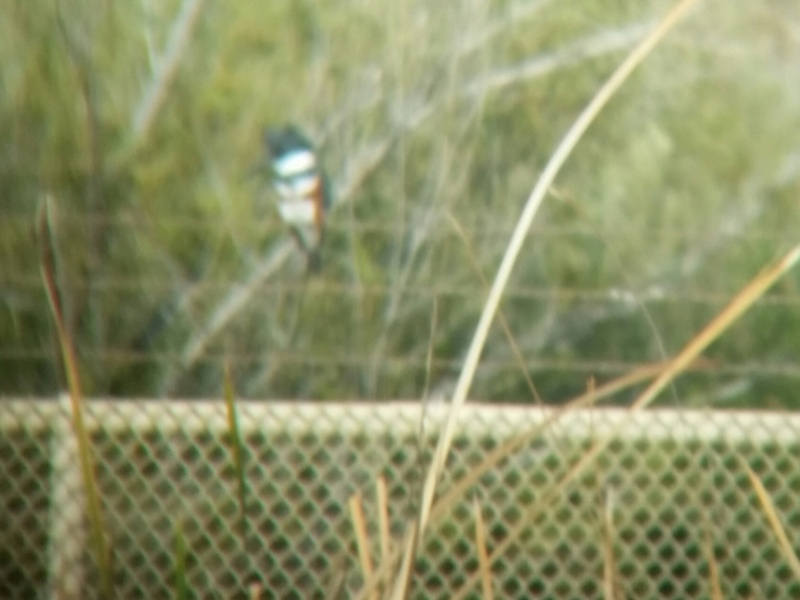kingfisher: (259, 121, 329, 278)
